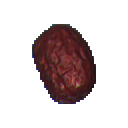gd: (19, 17, 115, 114)
